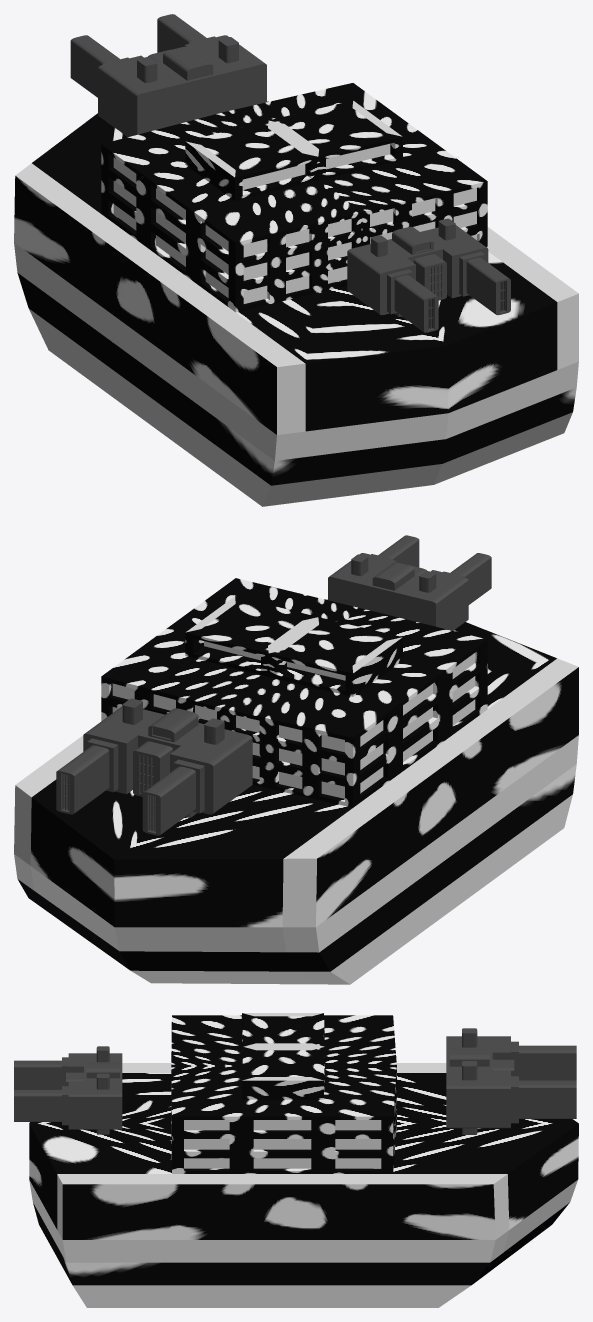
Rendered from BLACK_LightCruiser.fbx.
The picture shows the model from 3 angles, top to bottom: view 1: azimuth 30°, elevation 25°; view 2: azimuth 150°, elevation 25°; view 3: azimuth 270°, elevation 25°; orthographic projection. The views are drawn at different scales.
Parts seen in each view (by area): view 1: Cube, Cube.001, Cube.002; view 2: Cube, Cube.001, Cube.002; view 3: Cube, Cube.001, Cube.002.
Boxes of the visible parts, box(x1,y1,x2,y2) form: Cube: box(14, 83, 578, 506); Cube.001: box(70, 14, 266, 136); Cube.002: box(347, 218, 510, 332); Cube: box(14, 578, 578, 984); Cube.001: box(56, 698, 252, 835); Cube.002: box(328, 535, 491, 630); Cube: box(29, 1013, 578, 1307); Cube.001: box(446, 1028, 576, 1134); Cube.002: box(14, 1046, 122, 1134).
Size of the model in its own units: 420 by 328 by 828.
